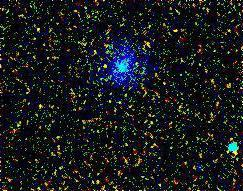star: (90, 52, 120, 82)
